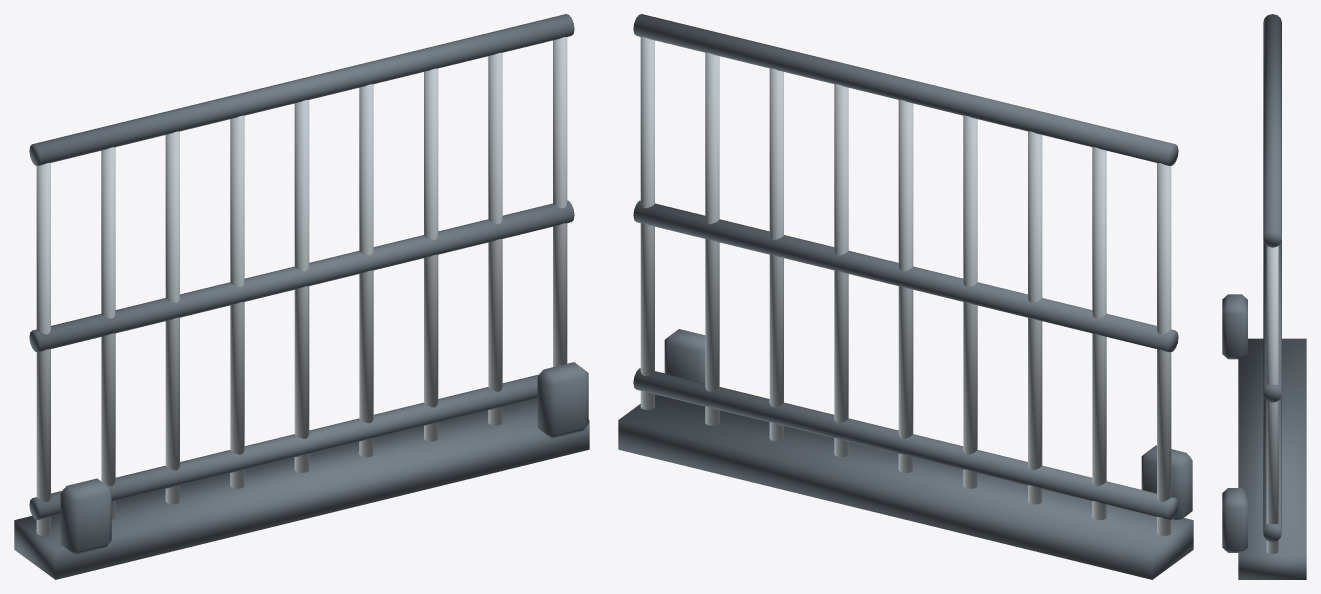
Rendered from fence_standard.glb.
3 views of the same model, side by side, from view 1: azimuth 30°, elevation 25°; view 2: azimuth 150°, elevation 25°; view 3: azimuth 270°, elevation 25° (orthographic). The views are drawn at different scales.
Parts seen in each view (by area): view 1: Fence_steel, Fence_dark, Base_dark, Footing_dark; view 2: Fence_steel, Fence_dark, Base_dark, Footing_dark; view 3: Base_dark, Fence_dark, Fence_steel, Footing_dark.
Part boxes in pixels (x1,y1,x2,y2): Fence_steel: (36, 37, 567, 535); Fence_dark: (29, 14, 574, 519); Base_dark: (14, 398, 589, 579); Footing_dark: (60, 362, 588, 554); Fence_steel: (640, 37, 1171, 535); Fence_dark: (633, 14, 1178, 519); Base_dark: (618, 394, 1193, 579); Footing_dark: (664, 329, 1192, 519); Base_dark: (1238, 338, 1306, 579); Fence_dark: (1263, 14, 1281, 541); Fence_steel: (1266, 245, 1278, 553); Footing_dark: (1222, 294, 1247, 552).
Bounding box in the file's own units: 3 × 2.26 × 0.495.
